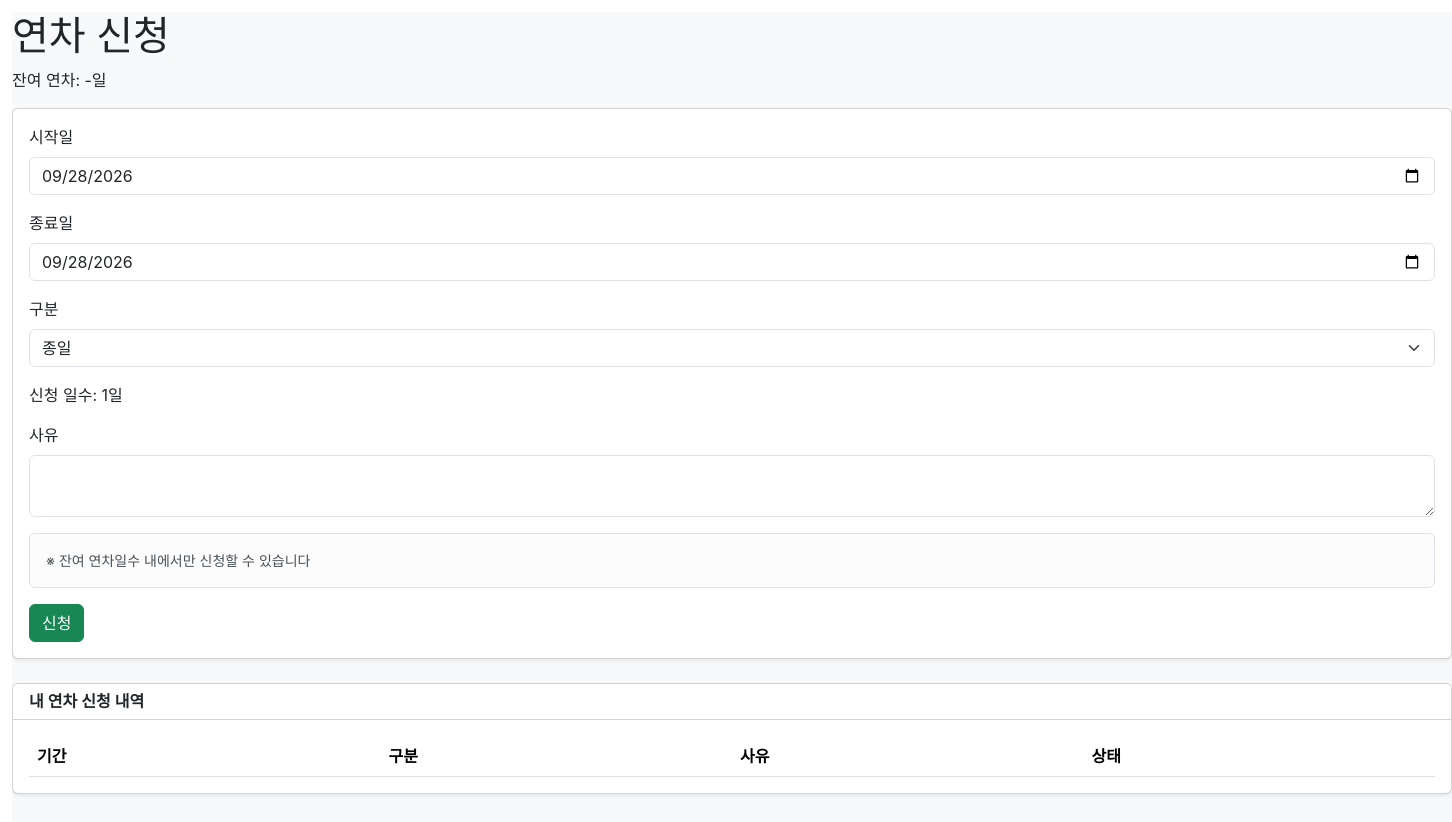
Test: LeaveRequestsPage › 정상 제출 시 목록에 대기중 항목이 반영된다
Type "2026-09-07" into the date field below "시작일" at (732, 176), box [29, 157, 1435, 195]
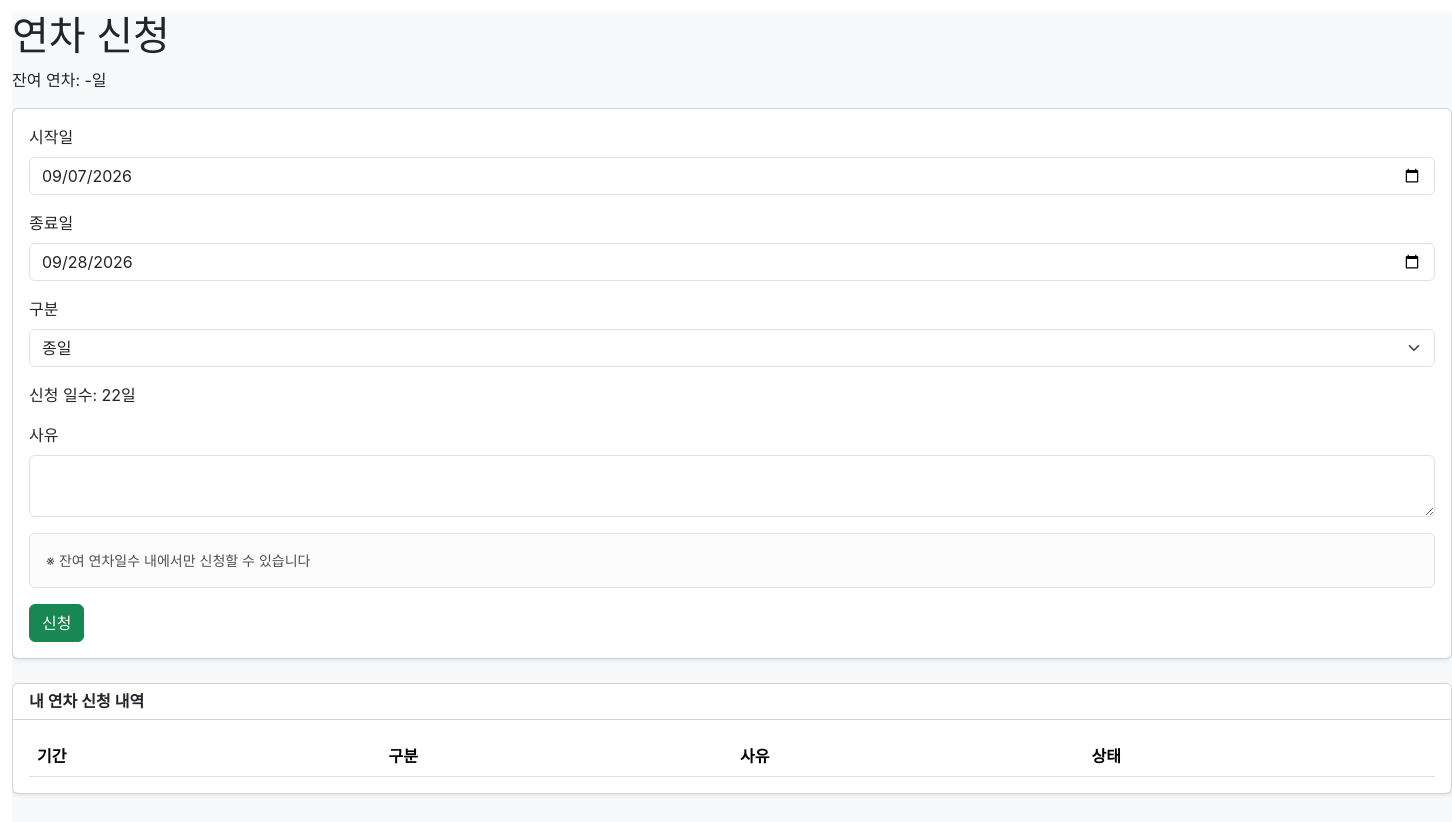
Type "2026-09-08" into the date field below "종료일" at (732, 262), box [29, 243, 1435, 281]
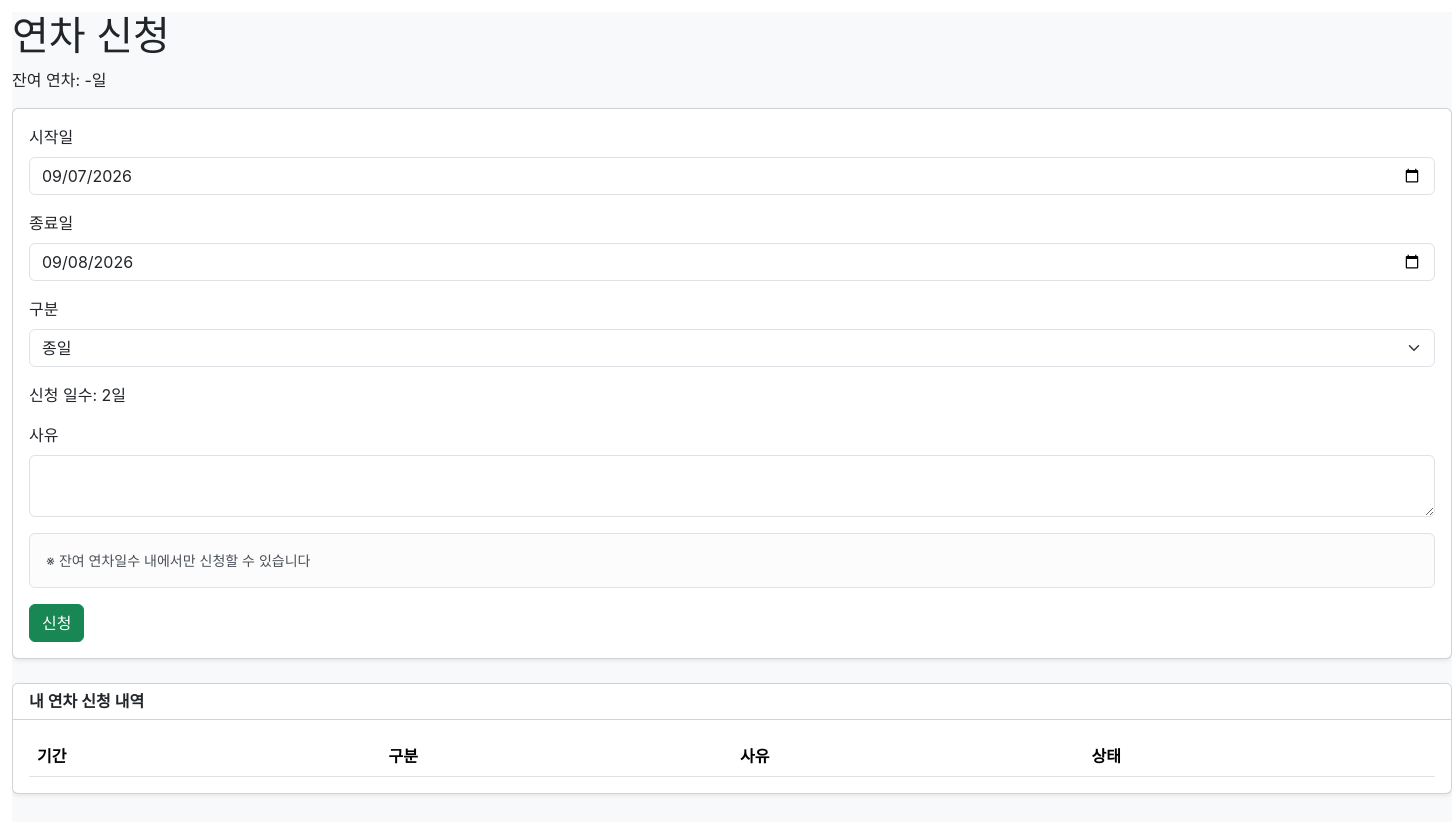
Type "가족 여행" into the text box at (732, 486), box [29, 455, 1435, 517]
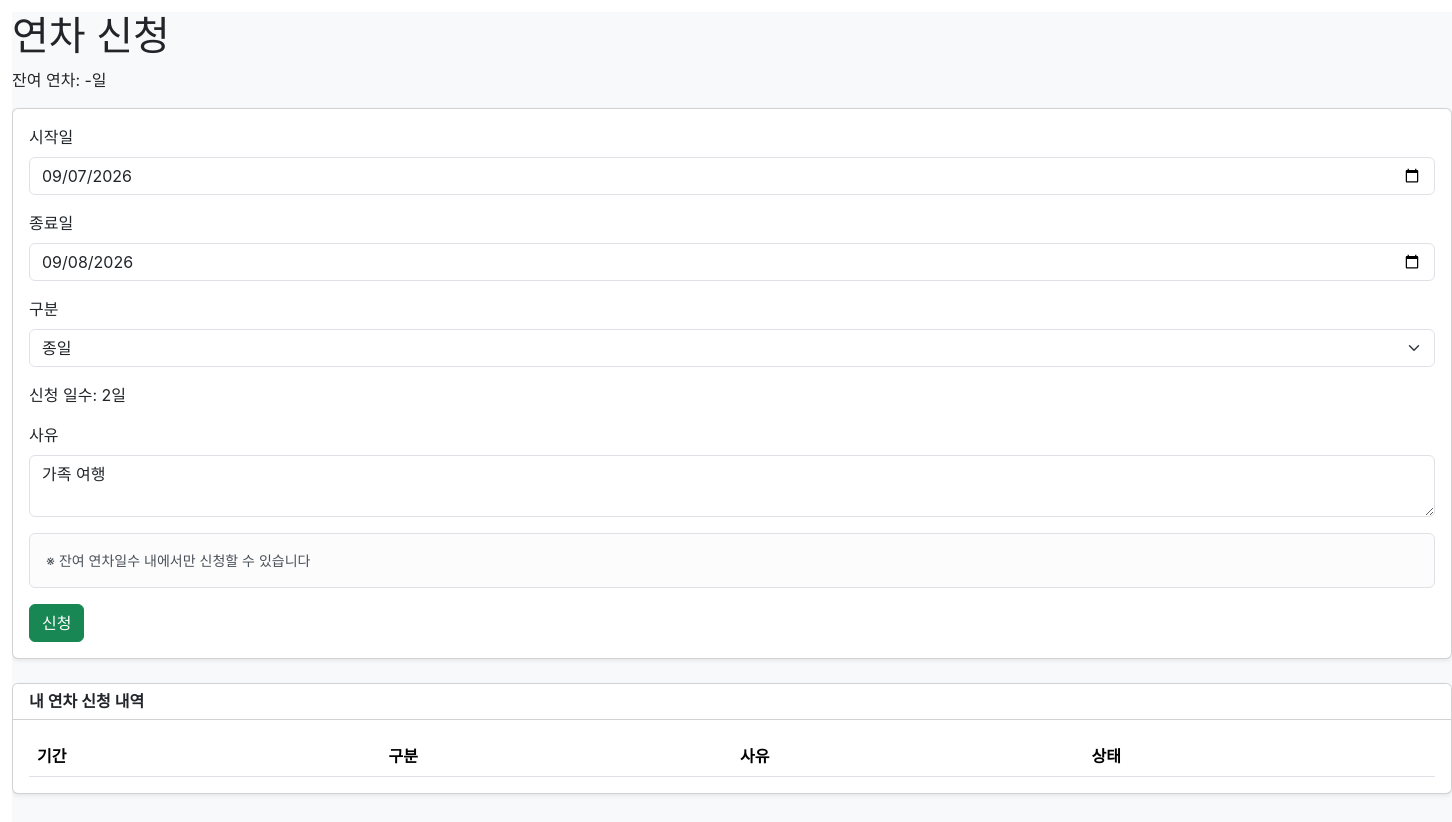
Click the button "신청" at (57, 623), box [29, 604, 84, 642]
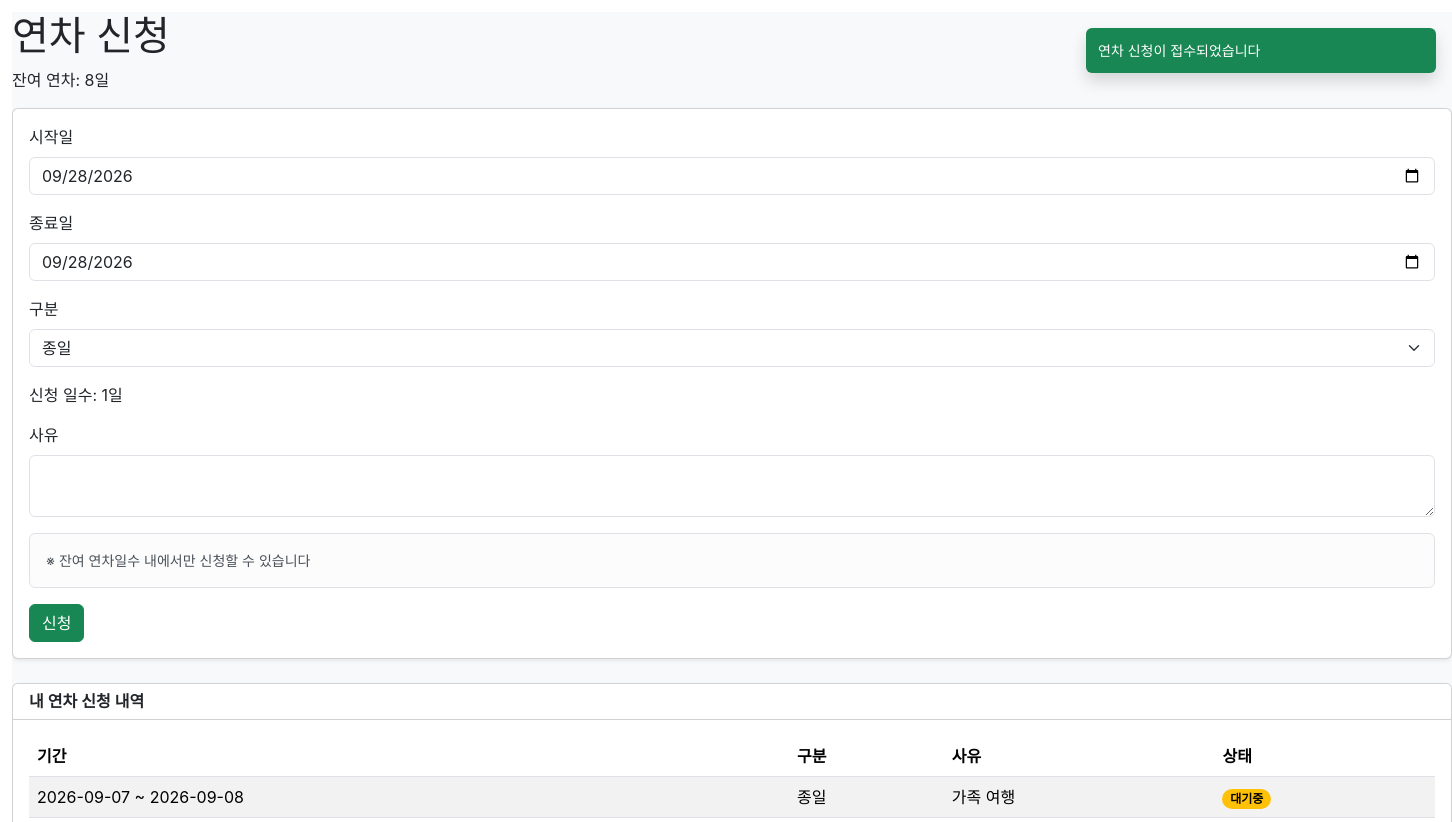
Expected: the text "대기중" is shown, [1222, 789, 1271, 809]
